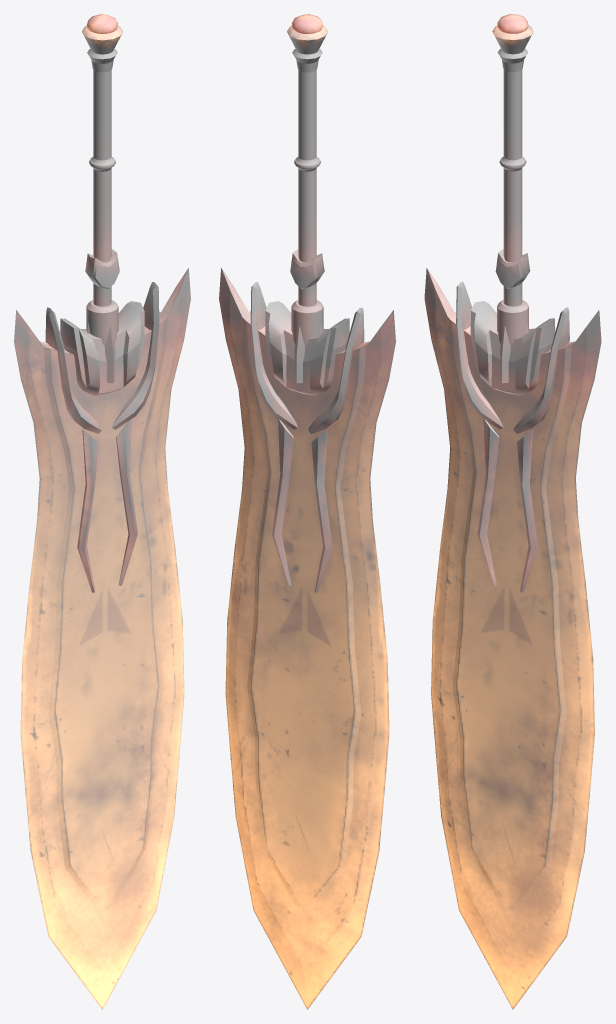
Rendered from great2.fbx.
3 renders of one model, left to right at view 1: azimuth 30°, elevation 25°; view 2: azimuth 150°, elevation 25°; view 3: azimuth 330°, elevation 25°, orthographic.
Parts seen in each view (by area): view 1: Blade.001; view 2: Blade.001; view 3: Blade.001.
Part boxes in pixels (<box>): Blade.001: <box>14,14,190,1009</box>; Blade.001: <box>219,14,395,1009</box>; Blade.001: <box>424,14,601,1009</box>.
Size of the model in its own units: 506 by 2715 by 108.
